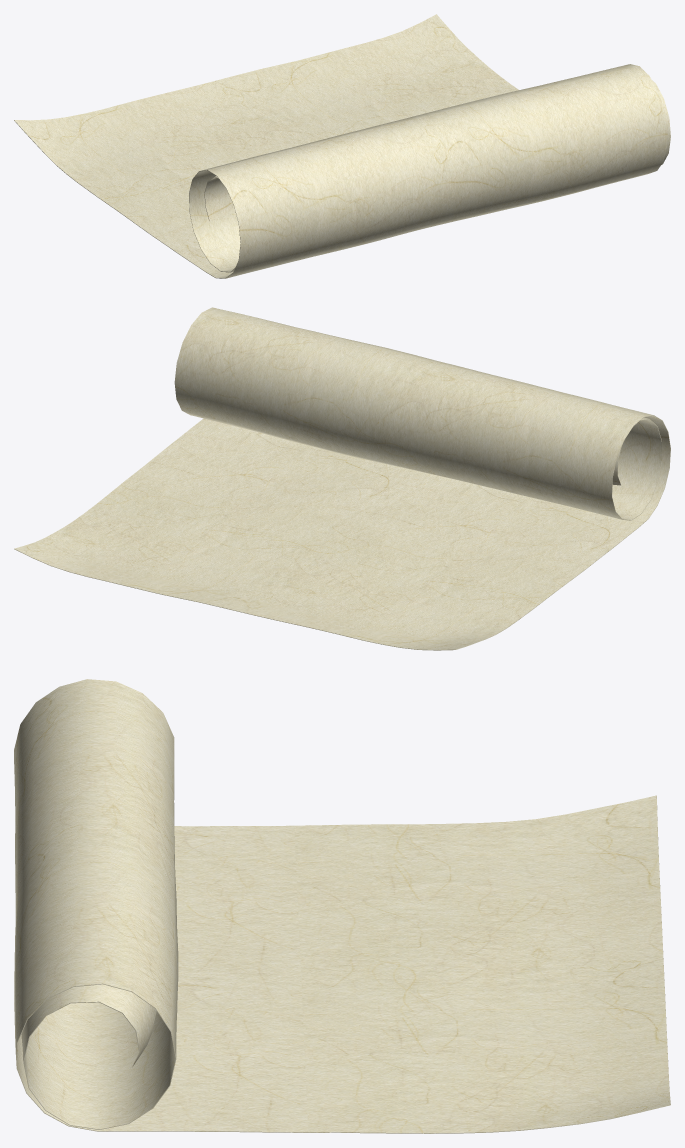
The picture shows the model from 3 angles, top to bottom: view 1: azimuth 30°, elevation 25°; view 2: azimuth 150°, elevation 25°; view 3: azimuth 270°, elevation 25°; orthographic projection. The views are drawn at different scales.
Visible parts, largest first — view 1: Plane003; view 2: Plane003; view 3: Plane003.
Boxes of the visible parts, x1,y1,x2,y2 form: Plane003: (14, 14, 670, 278); Plane003: (14, 307, 670, 650); Plane003: (14, 679, 670, 1133).
Size of the model in its own units: 20.77 by 4.75 by 18.12.
1 material, 1 textured.
